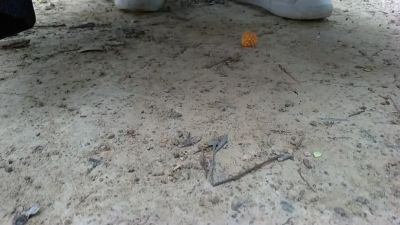eggs: (239, 29, 260, 48)
